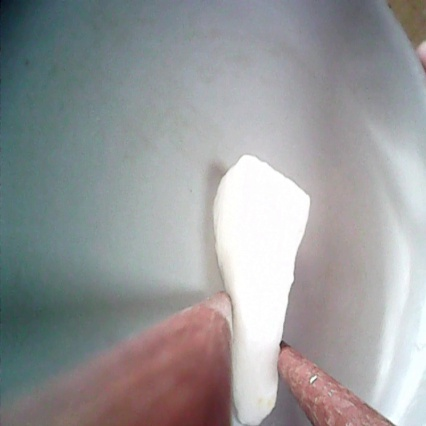white_chinese-yam: (209, 151, 317, 426)
